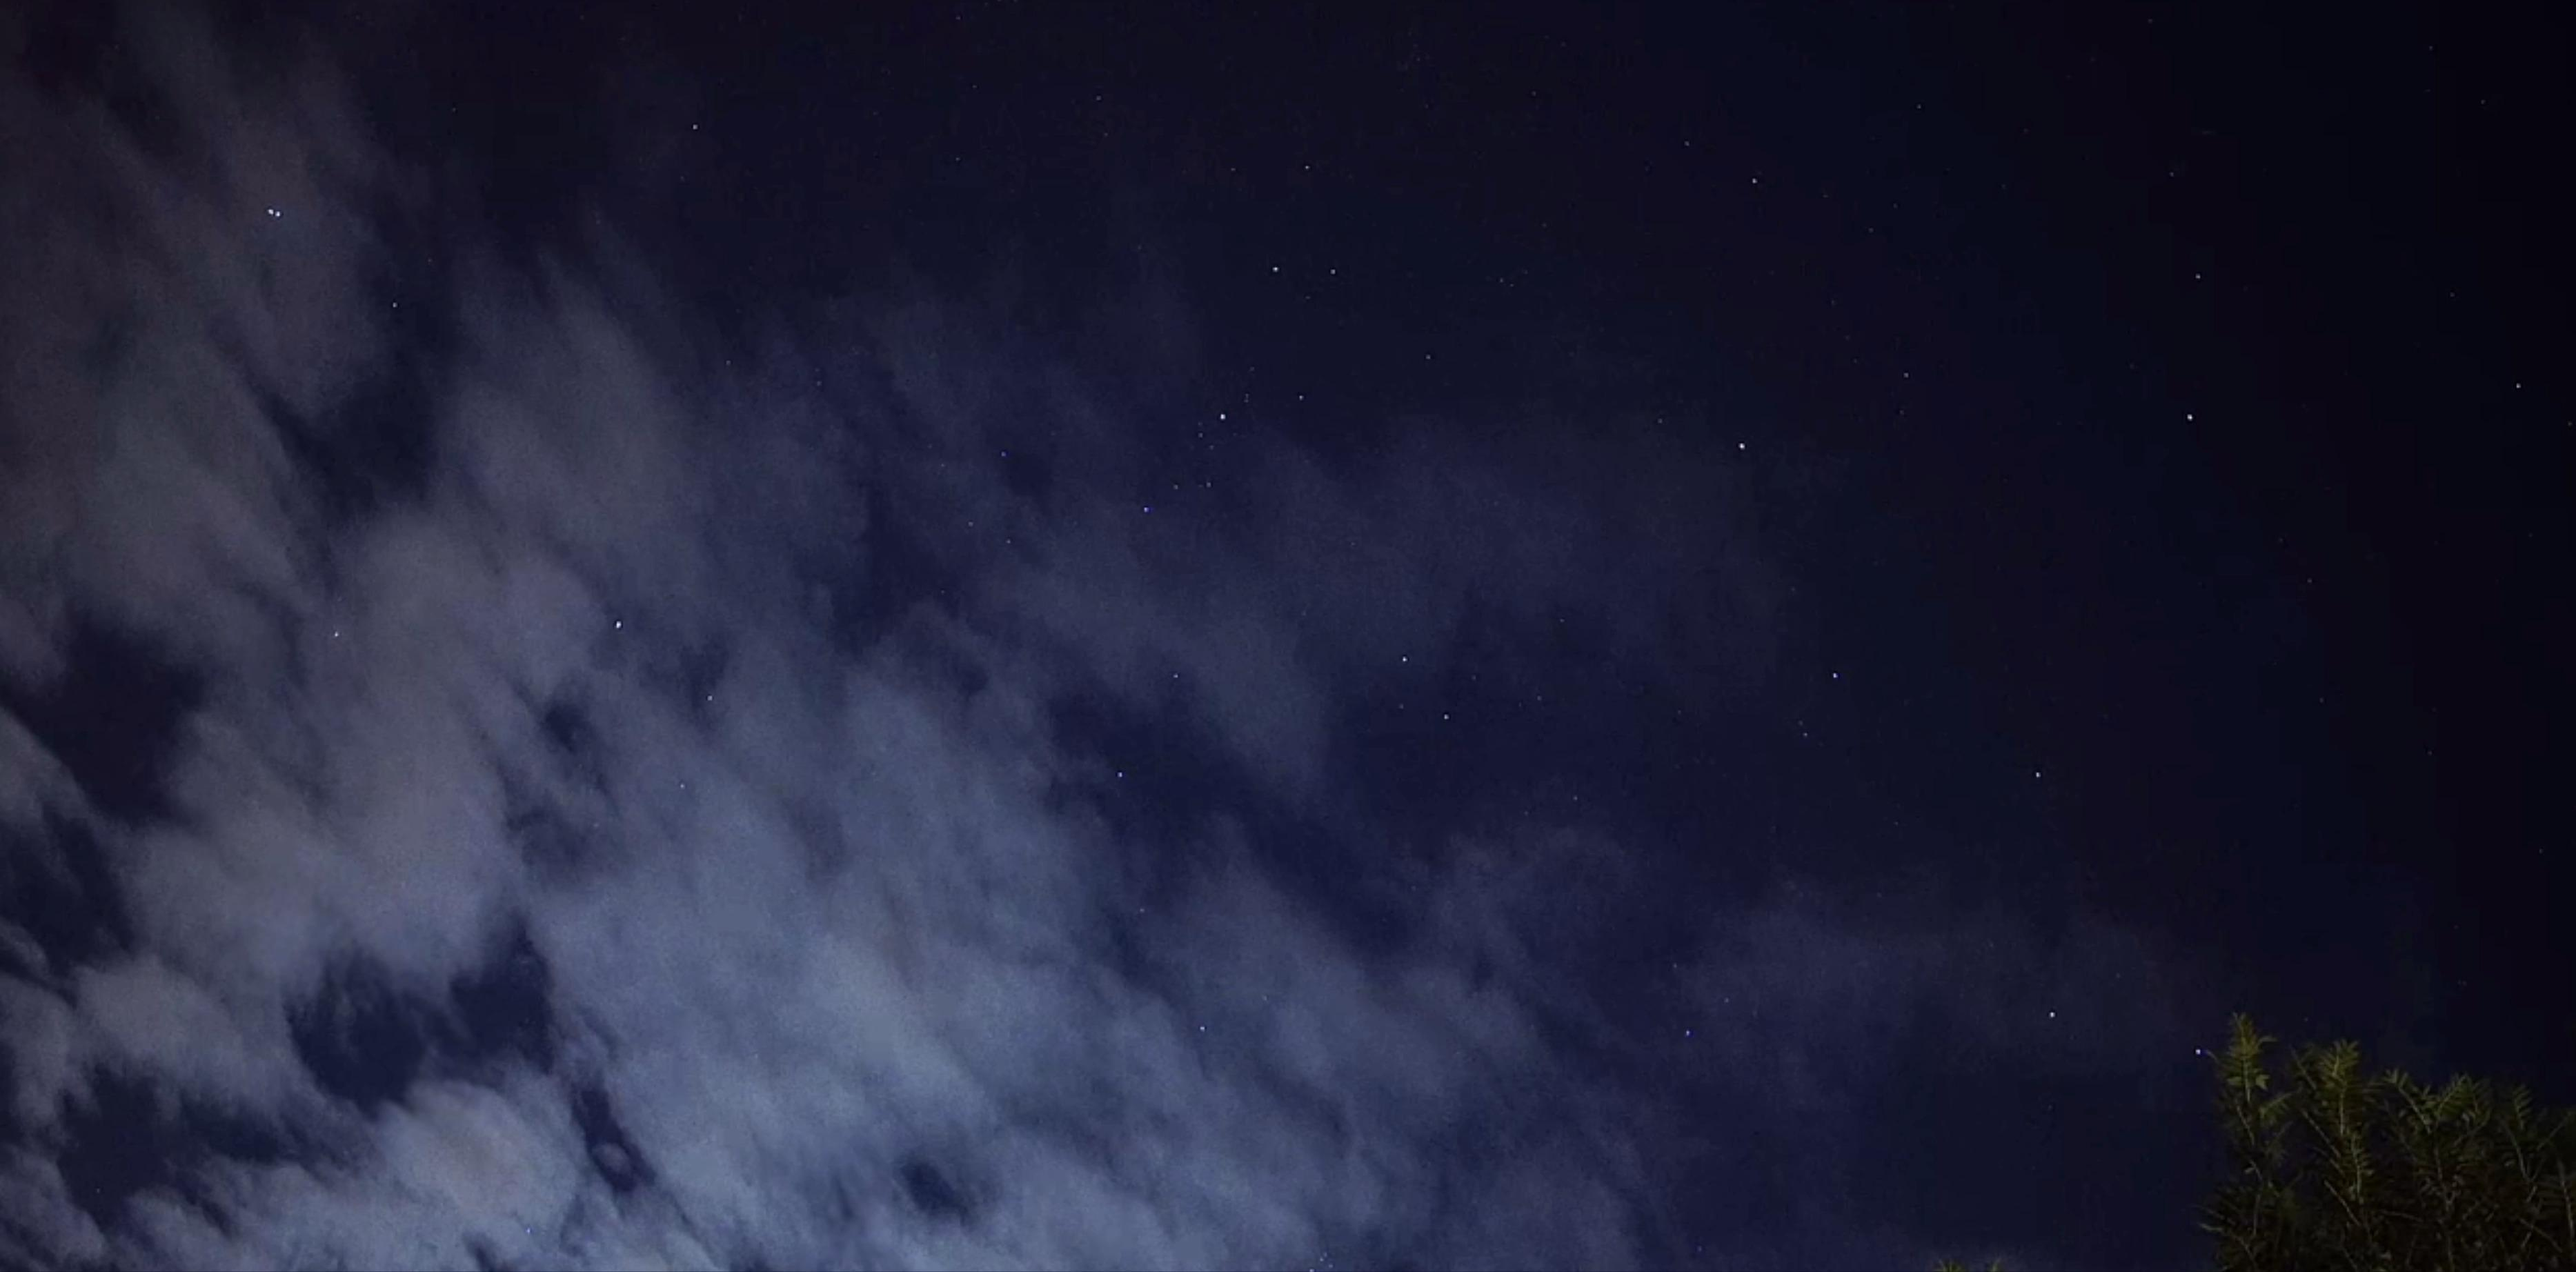Plane: (256, 200, 291, 230)
